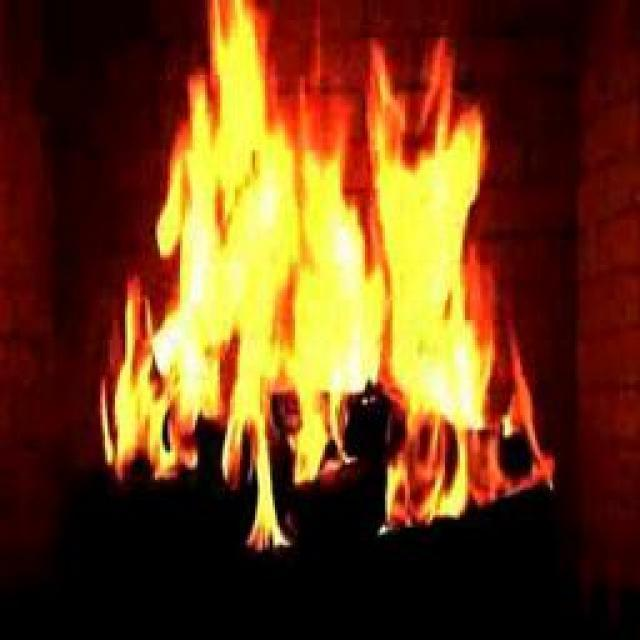Fire: (148, 54, 471, 472)
